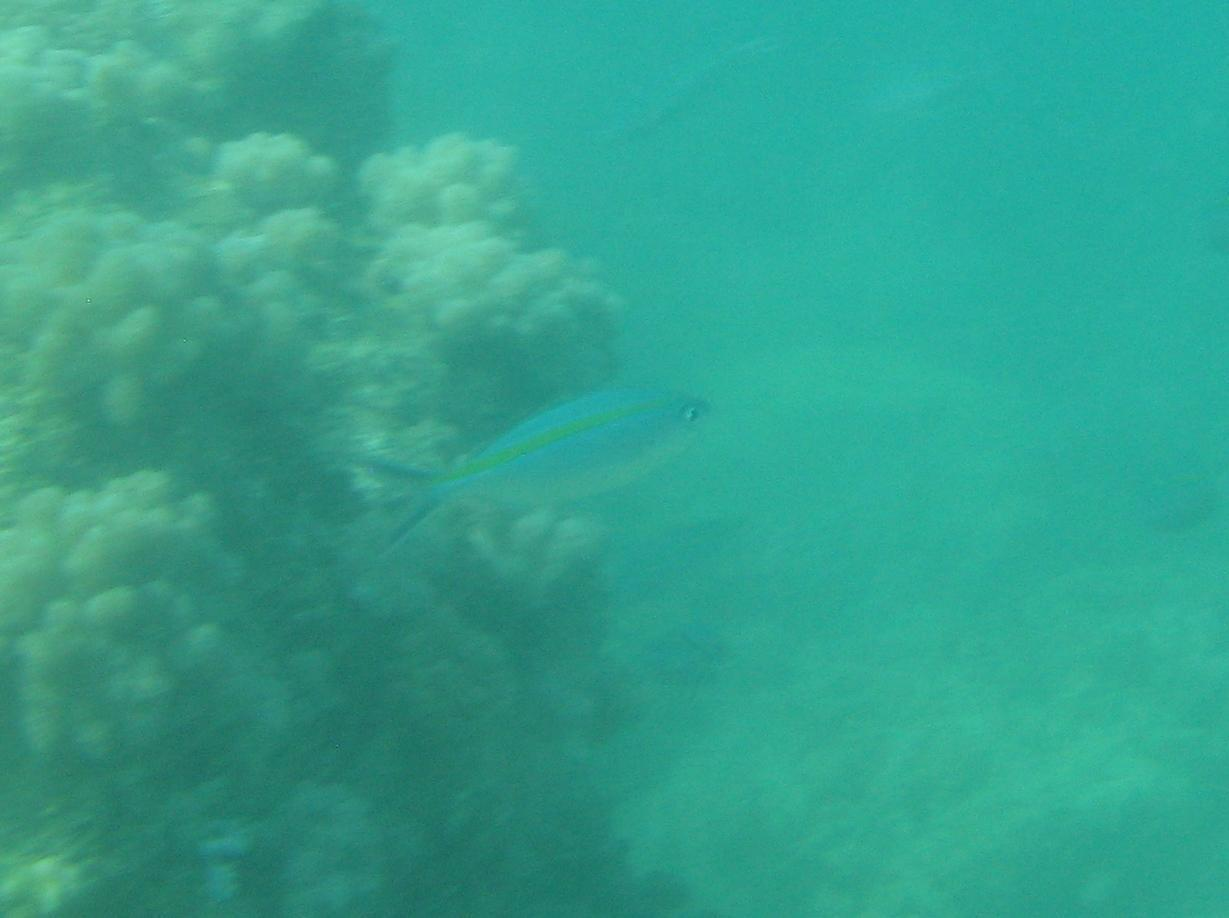Caesio caerulaura: (342, 372, 741, 554)
